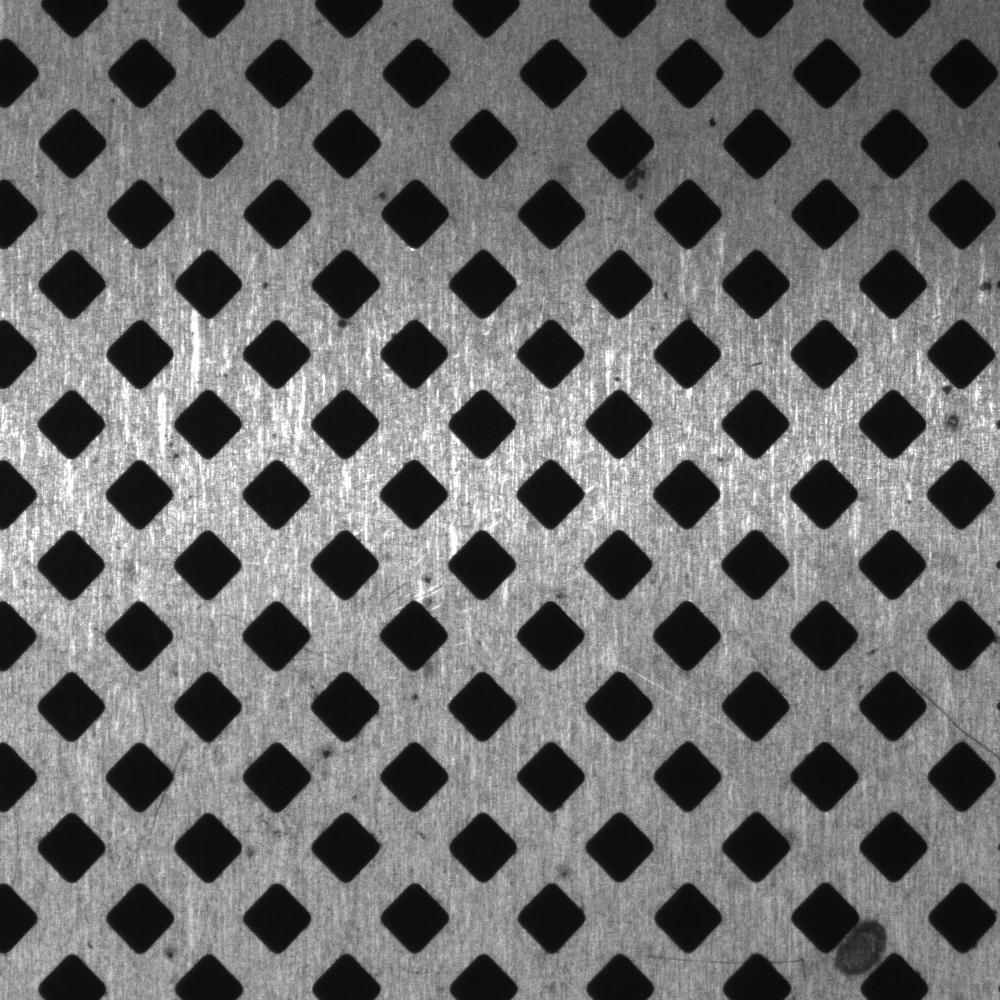Discolor: (833, 914, 905, 990), (616, 160, 668, 202)
Etching: (932, 377, 963, 437)
Scar: (909, 668, 996, 769), (149, 733, 199, 840), (358, 567, 420, 621), (642, 949, 737, 972), (769, 952, 813, 969)
